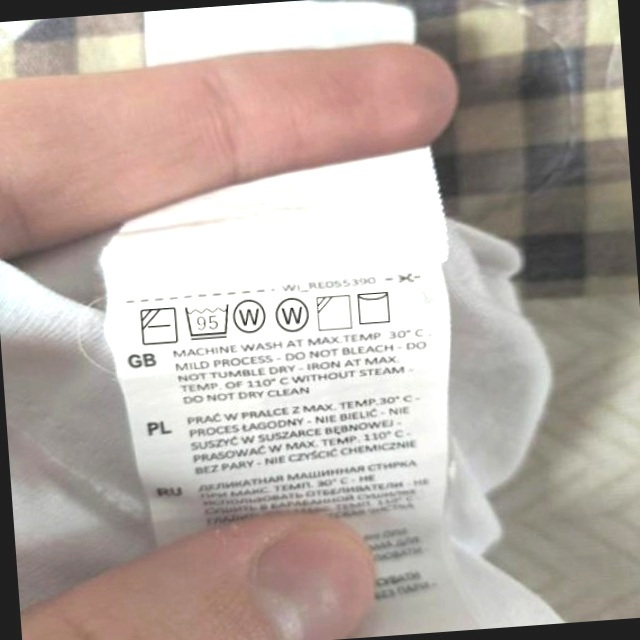95C: (182, 300, 233, 342)
dry_flat_in_shade: (138, 303, 179, 348)
line_dry: (354, 287, 396, 327)
shade_dry: (314, 292, 355, 333)
wet_clean: (273, 295, 312, 336), (232, 294, 270, 336)
